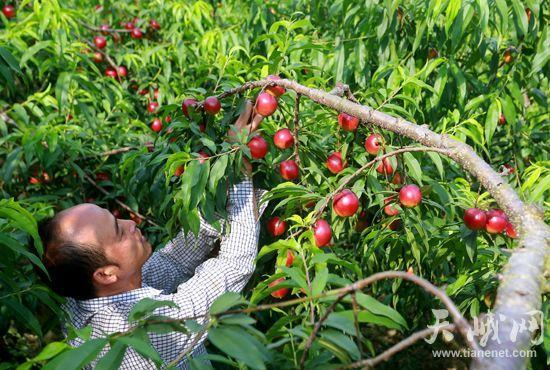apple: (254, 92, 278, 116), (463, 207, 487, 230), (485, 209, 507, 232), (311, 221, 333, 244), (279, 157, 301, 180), (273, 127, 295, 150), (335, 192, 357, 215), (399, 184, 422, 205), (338, 112, 360, 131), (265, 217, 287, 236), (247, 137, 269, 156), (365, 134, 387, 153), (327, 152, 349, 171), (204, 96, 221, 113)
